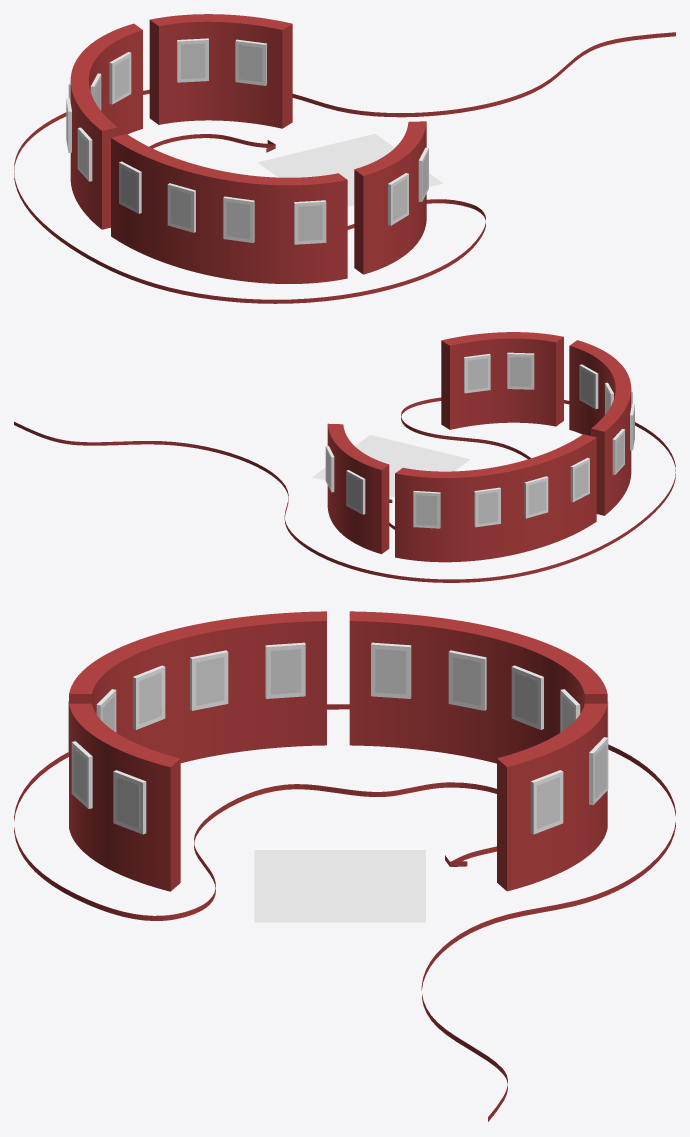
The model's file is prova modello.obj.
3 views of the same model, one above another, from view 1: azimuth 30°, elevation 25°; view 2: azimuth 150°, elevation 25°; view 3: azimuth 270°, elevation 25° (orthographic). The views are drawn at different scales.
Visible parts, largest first — view 1: Obj_000124, Obj_000122, Obj_000123, Obj_000121, Obj_000002, Obj_000133, Obj_000114, Obj_000093, Obj_000130, Obj_000090, Obj_000086, Obj_000094 (+11 smaller); view 2: Obj_000123, Obj_000121, Obj_000124, Obj_000122, Obj_000002, Obj_000133, Obj_000118, Obj_000109, Obj_000115, Obj_000106, Obj_000102, Obj_000117 (+8 smaller); view 3: Obj_000123, Obj_000124, Obj_000121, Obj_000122, Obj_000133, Obj_000002, Obj_000095, Obj_000079, Obj_000083, Obj_000099, Obj_000103, Obj_000127 (+10 smaller).
Part boxes in pixels (box(x1,y1,x2,y2)): Obj_000124: box(111, 134, 347, 283); Obj_000122: box(149, 14, 292, 128); Obj_000123: box(70, 23, 142, 229); Obj_000121: box(354, 121, 426, 274); Obj_000002: box(14, 32, 675, 303); Obj_000133: box(258, 133, 442, 206); Obj_000114: box(181, 43, 205, 78); Obj_000093: box(298, 205, 322, 241); Obj_000130: box(238, 44, 262, 82); Obj_000090: box(226, 201, 249, 239); Obj_000086: box(170, 188, 190, 228); Obj_000094: box(294, 200, 326, 244); Obj_000123: box(395, 434, 596, 562); Obj_000121: box(441, 332, 563, 429); Obj_000124: box(569, 340, 631, 515); Obj_000122: box(327, 423, 389, 554); Obj_000002: box(14, 397, 675, 582); Obj_000133: box(312, 435, 470, 497); Obj_000118: box(510, 356, 531, 386); Obj_000109: box(416, 495, 436, 525); Obj_000115: box(468, 358, 487, 389); Obj_000106: box(478, 492, 497, 523); Obj_000102: box(528, 481, 545, 514); Obj_000117: box(507, 352, 534, 389); Obj_000123: box(349, 611, 607, 763); Obj_000124: box(69, 611, 326, 763); Obj_000121: box(69, 703, 180, 891); Obj_000122: box(497, 703, 607, 891); Obj_000133: box(254, 850, 425, 922); Obj_000002: box(14, 704, 675, 1121); Obj_000095: box(375, 649, 405, 694); Obj_000079: box(271, 649, 301, 694); Obj_000083: box(196, 657, 224, 705); Obj_000099: box(452, 657, 480, 705); Obj_000103: box(515, 672, 537, 724); Obj_000127: box(537, 777, 559, 828).
Bounding box in the file's own units: 1.71 × 0.24 × 1.16.
